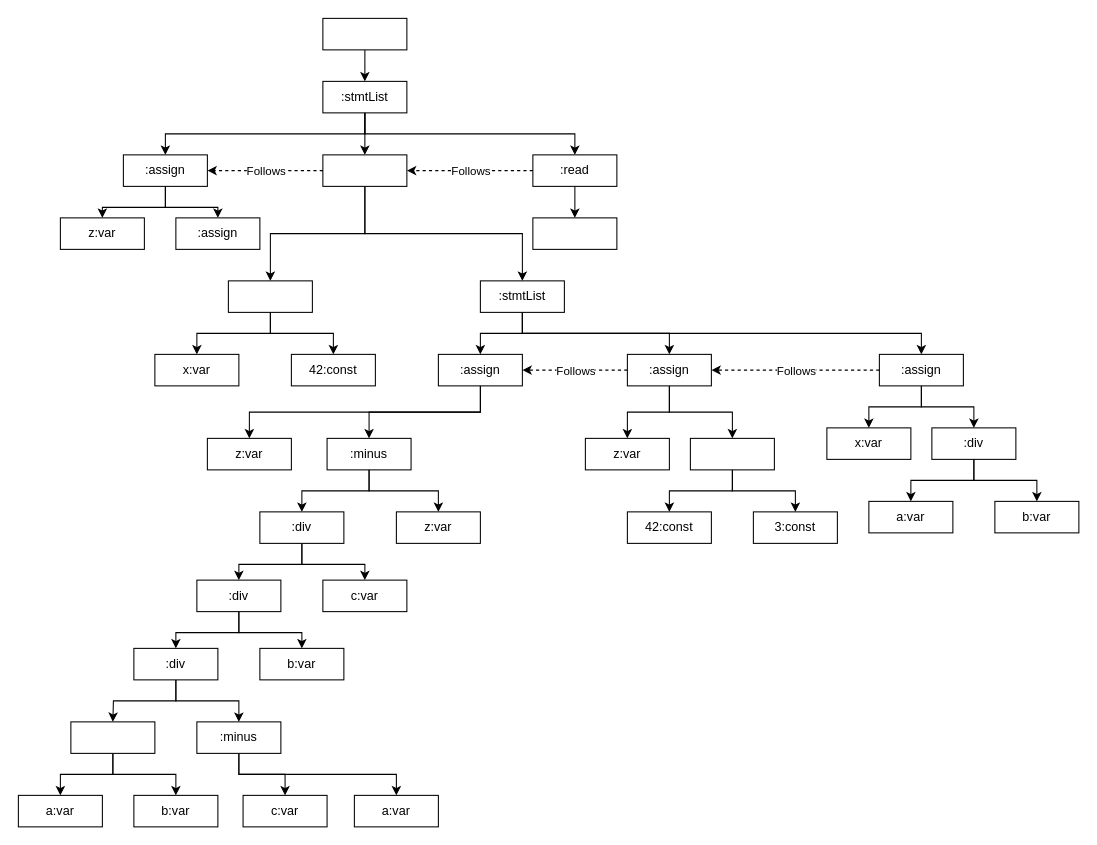
Some shapes in this 1097 by 845 pixel diagram are drawn without their labels. Each missing label, with the centre of its shape:
:eq: the point at 269,296
:plus: the point at 731,453
:times: the point at 112,737
:while: the point at 364,170
R:proc: the point at 364,33
r:var: the point at 574,233
